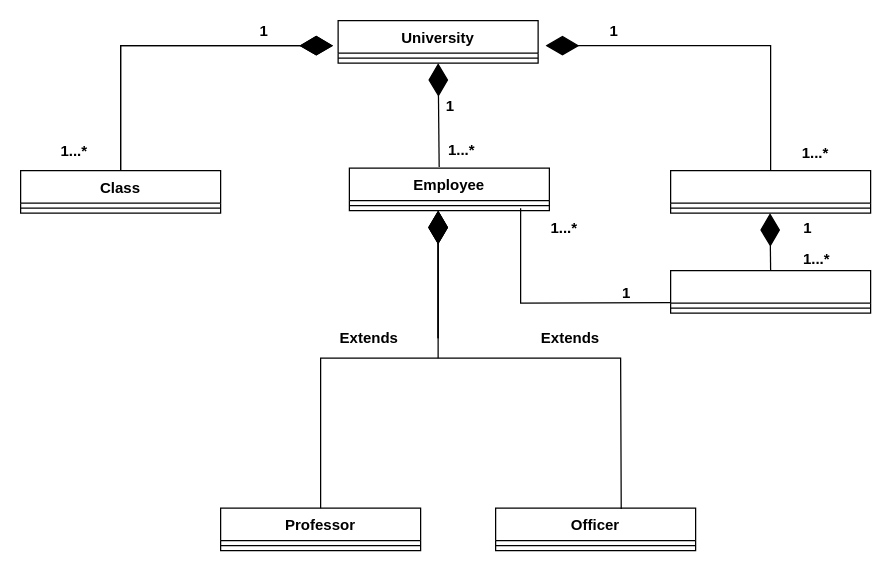
Some shapes in this 891 by 571 pixel diagram are drawn without their labels. The centre of each missing label's shape, as x and y in pixels:
"Deparment" goes at point 770,191.
"Office" goes at point 770,291.
